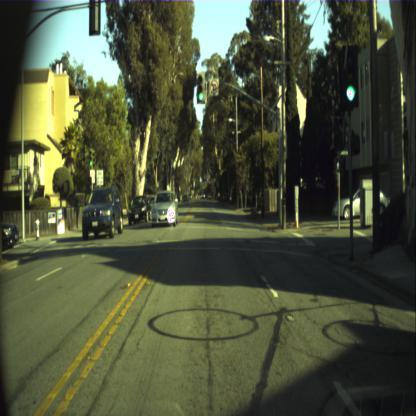Green: (340, 46, 360, 108), (196, 73, 206, 104), (89, 150, 91, 166)
